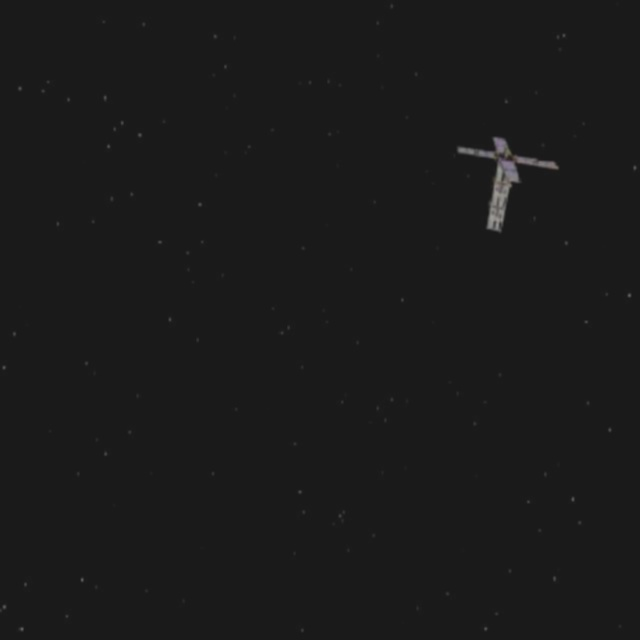medium_debris: (442, 131, 557, 242)
